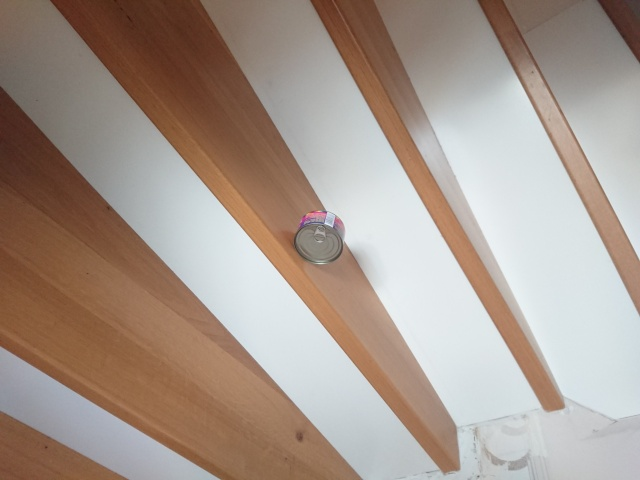Giana Tuna Salad Mexico 185g: (292, 208, 347, 267)
